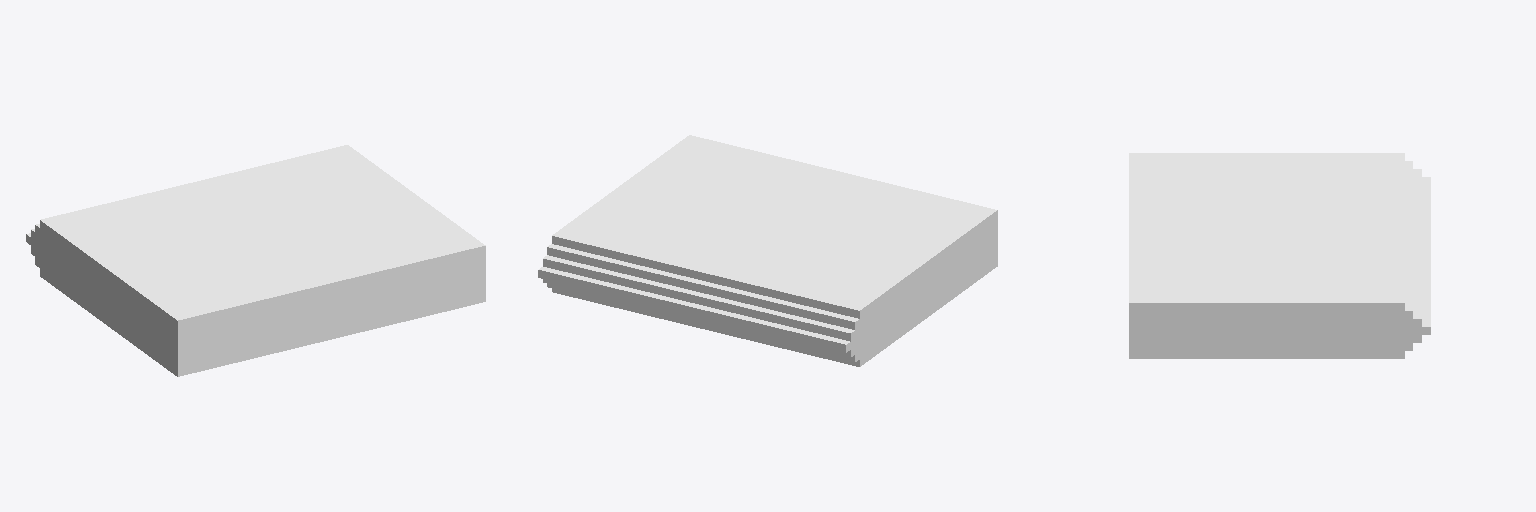
Rendered from Diary.obj.
3 views of the same model, side by side, from view 1: azimuth 30°, elevation 25°; view 2: azimuth 150°, elevation 25°; view 3: azimuth 270°, elevation 25° (orthographic).
Parts seen in each view (by area): view 1: object 1; view 2: object 1; view 3: object 1.
Boxes of the visible parts, x1,y1,x2,y2 form: object 1: [26, 145, 485, 376]; object 1: [538, 135, 997, 366]; object 1: [1129, 153, 1430, 358].
Size of the model in its own units: 4 by 0.7 by 3.4.